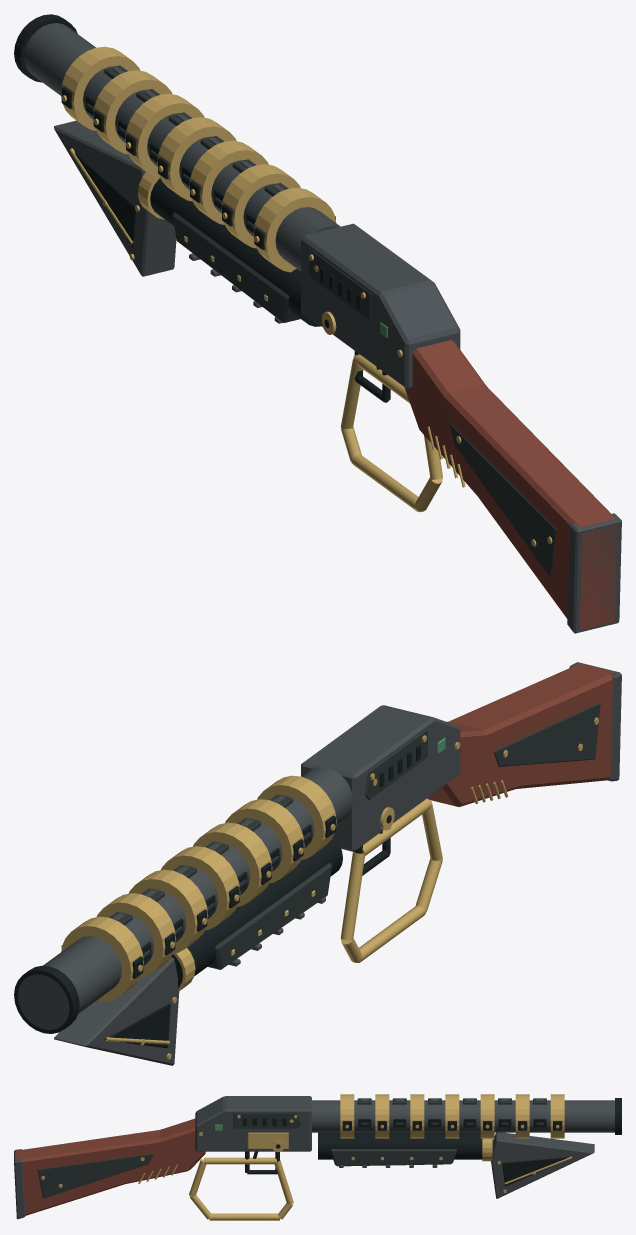
The model's file is slug_1.glb.
The picture shows the model from 3 angles, top to bottom: view 1: azimuth 30°, elevation 25°; view 2: azimuth 150°, elevation 25°; view 3: azimuth 270°, elevation 25°; orthographic projection. The views are drawn at different scales.
Visible parts, largest first — view 1: Weapon_slug_v1; view 2: Weapon_slug_v1; view 3: Weapon_slug_v1.
Part boxes in pixels (x1,y1,x2,y2): Weapon_slug_v1: [14, 14, 621, 633]; Weapon_slug_v1: [14, 662, 621, 1065]; Weapon_slug_v1: [14, 1094, 621, 1220].
Bounding box in the file's own units: 0.084 × 0.234 × 1.04.
